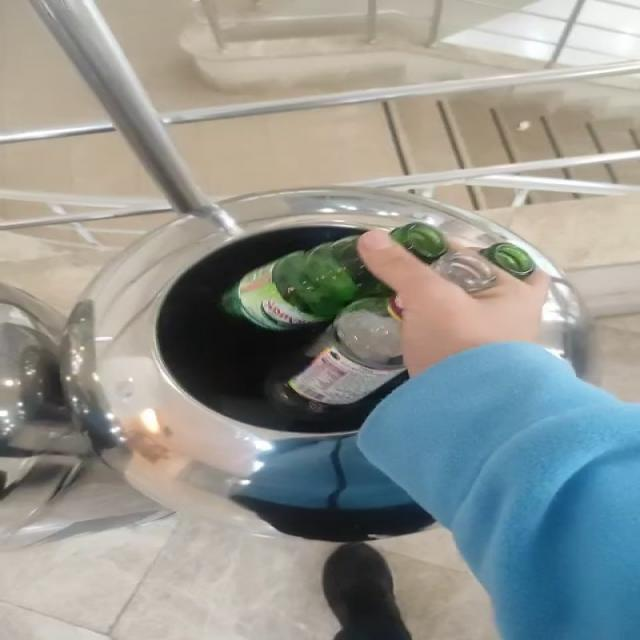glass: (223, 236, 405, 413), (392, 222, 536, 293)
